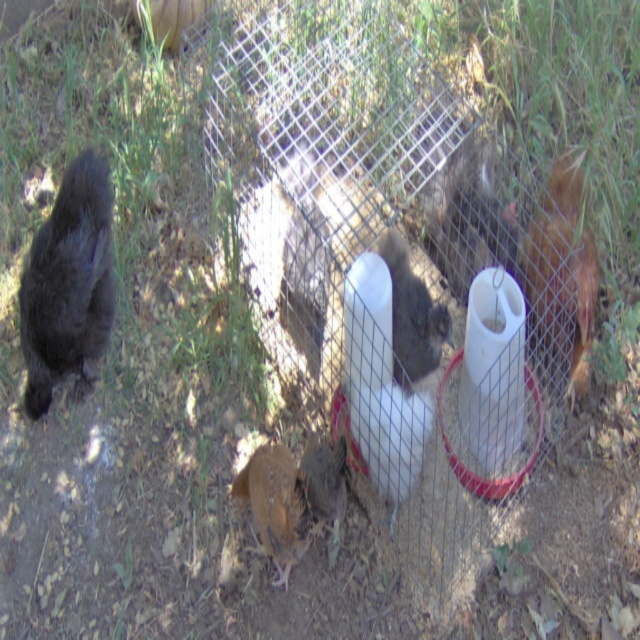Chicken: (12, 143, 112, 441)
